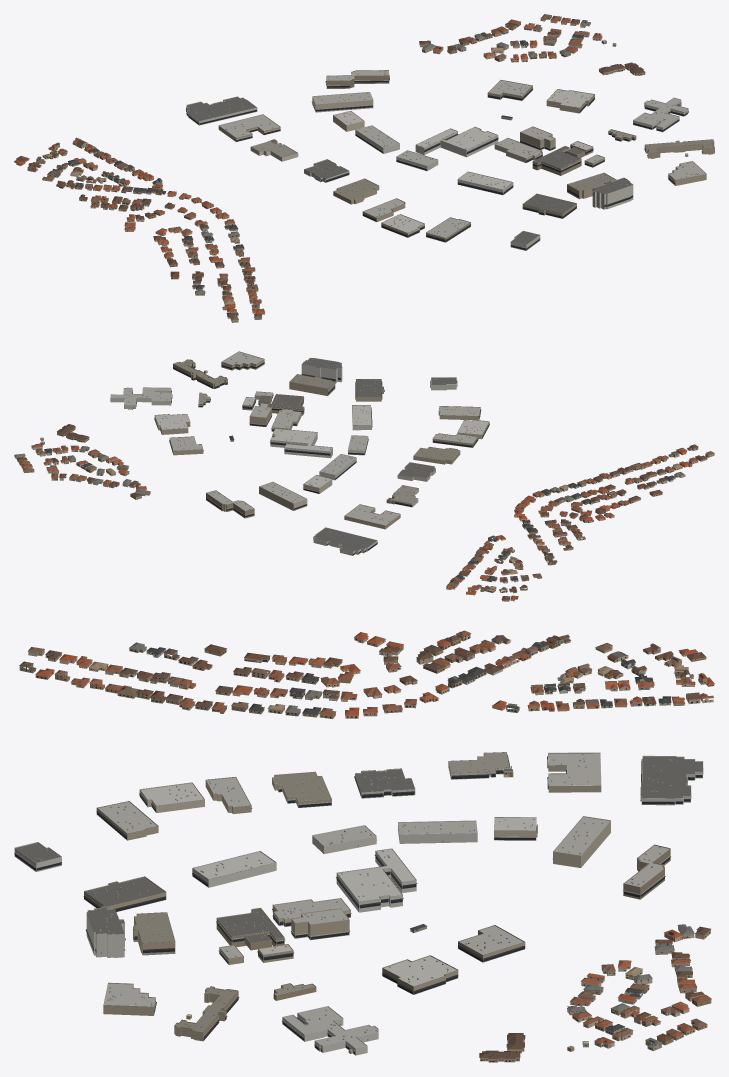
3 views of the same model, one above another, from view 1: azimuth 30°, elevation 25°; view 2: azimuth 150°, elevation 25°; view 3: azimuth 270°, elevation 25° (orthographic). The views are drawn at different scales.
Visible parts, largest first — view 1: buildings_r7_c7_lod0; view 2: buildings_r7_c7_lod0; view 3: buildings_r7_c7_lod0.
Boxes of the visible parts, x1,y1,x2,y2 form: buildings_r7_c7_lod0: (14,14,714,322); buildings_r7_c7_lod0: (14,351,714,601); buildings_r7_c7_lod0: (14,630,714,1062).
Size of the model in its own units: 1143 by 46.62 by 807.
